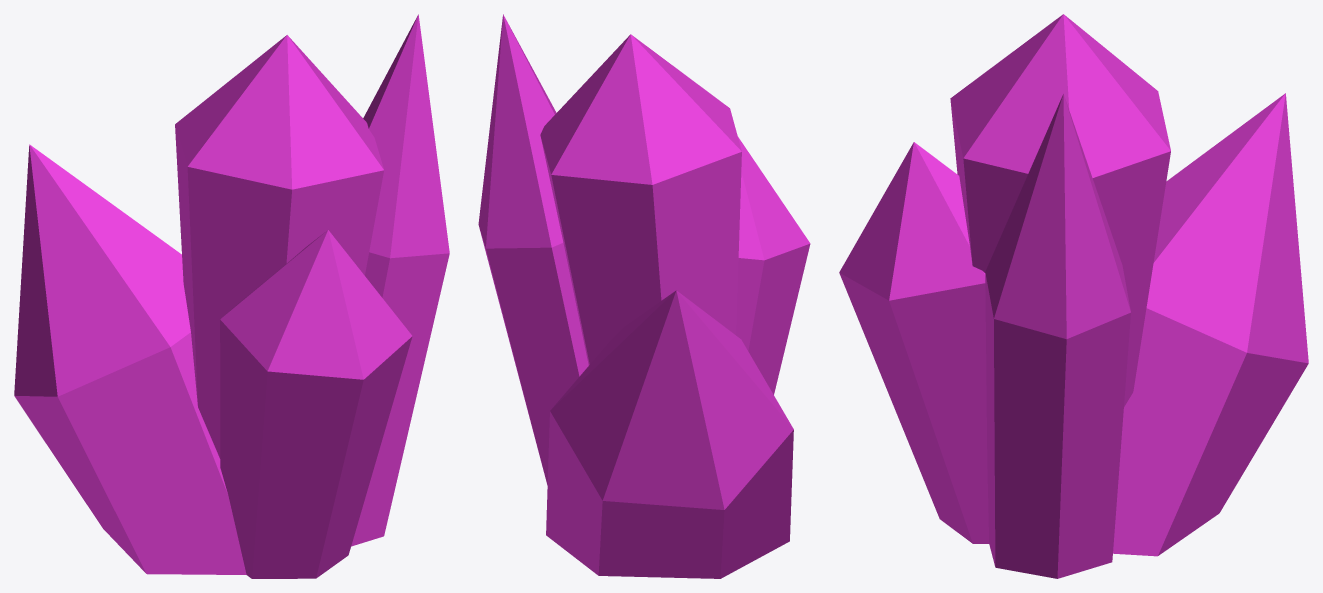
File: Crystal_solo_2.fbx
3 renders of one model, left to right at view 1: azimuth 30°, elevation 25°; view 2: azimuth 150°, elevation 25°; view 3: azimuth 270°, elevation 25°, orthographic. The views are drawn at different scales.
Visible parts, largest first — view 1: Crystal_solo_2; view 2: Crystal_solo_2; view 3: Crystal_solo_2.
Part boxes in pixels (x1,y1,x2,y2): Crystal_solo_2: (14, 14, 449, 578); Crystal_solo_2: (478, 14, 810, 578); Crystal_solo_2: (839, 14, 1308, 578).
Size of the model in its own units: 306 by 407 by 333.
